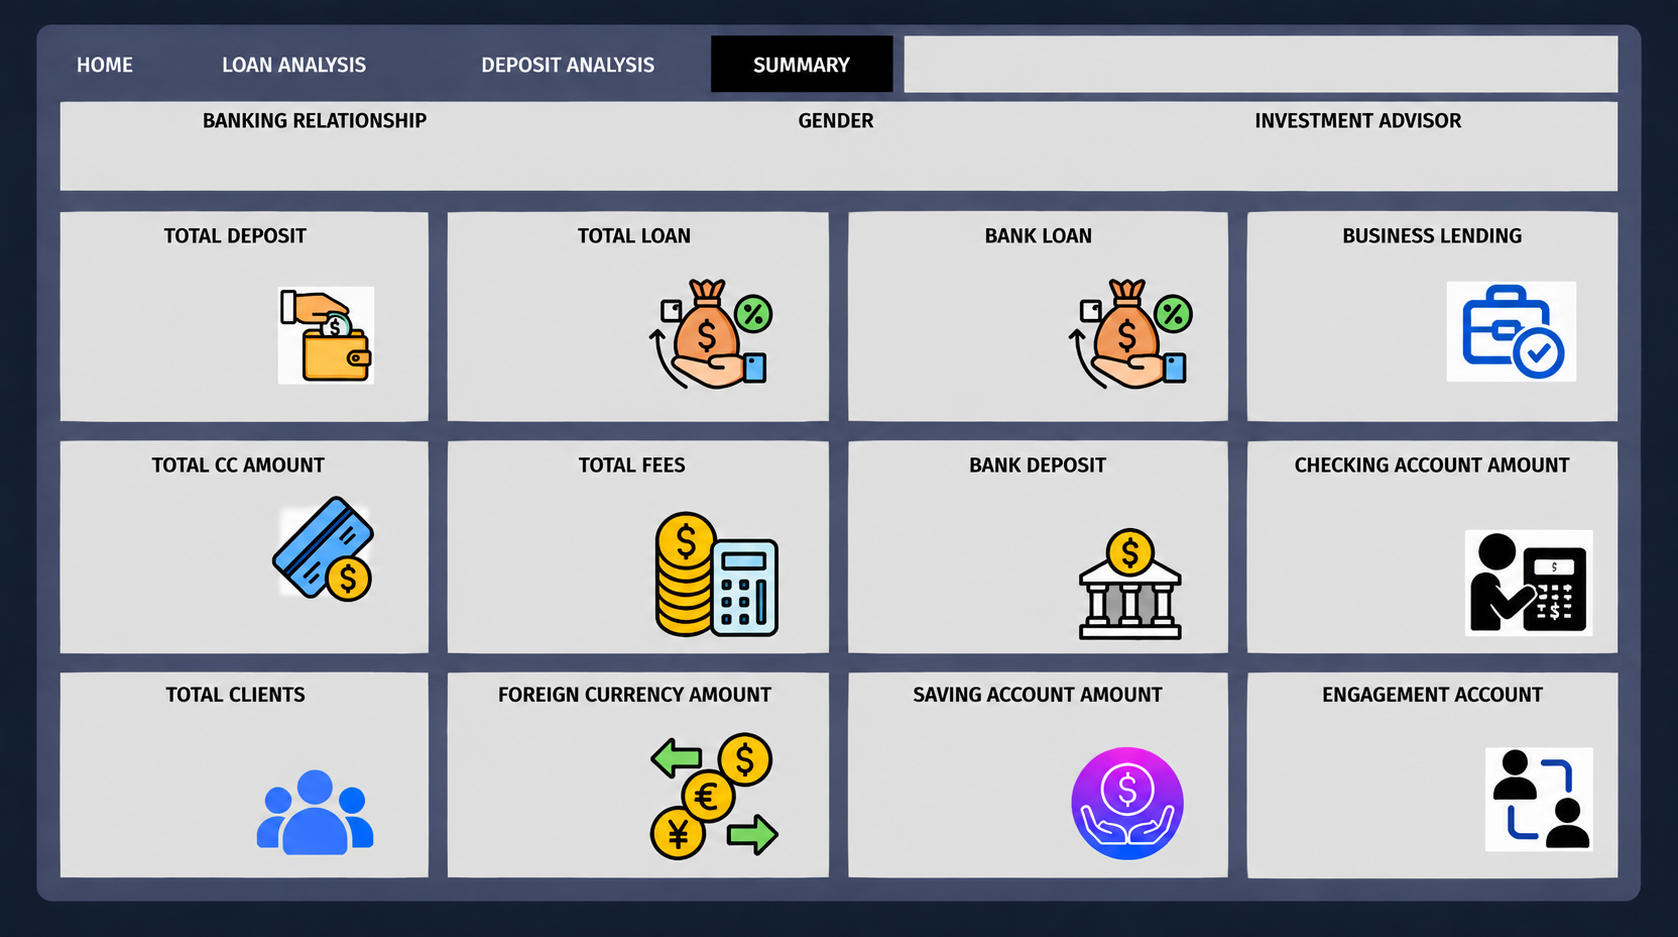

This screenshot's page, from the dashboard's own definition file:
{"tool":"powerbi","page":{"name":"Summary","canvas":[1280,720],"ordinal":3},"visuals":[{"type":"card","fields":{"Values":["DAX Measures.Engagment Length"]},"box":[946.3,546.4,198.2,114.9],"z":0},{"type":"card","fields":{"Values":["DAX Measures.Foreign Currency Account"]},"box":[667.2,546.4,198.2,114.9],"z":1000},{"type":"card","fields":{"Values":["DAX Measures.Bank Deposit"]},"box":[667.2,390.5,198.2,114.9],"z":2000},{"type":"card","fields":{"Values":["DAX Measures.Checking Accounts"]},"box":[953.4,382.3,198.2,114.9],"z":3000},{"type":"card","fields":{"Values":["DAX Measures.Bank Loan"]},"box":[667.2,220.5,198.2,114.9],"z":4000},{"type":"card","fields":{"Values":["DAX Measures.Business Lending"]},"box":[953.4,220.5,184.1,114.9],"z":5000},{"type":"card","fields":{"Values":["DAX Measures.Savings Account"]},"box":[360,546.4,207.6,114.9],"z":6000},{"type":"card","fields":{"Values":["DAX Measures.Total CC Amount"]},"box":[72.7,546.4,198.2,114.9],"z":7000},{"type":"card","fields":{"Values":["DAX Measures.Total Deposit"]},"box":[78.6,390.5,198.2,114.9],"z":8000},{"type":"card","fields":{"Values":["DAX Measures.Total Fees"]},"box":[365.9,390.5,184.1,114.9],"z":9000},{"type":"card","fields":{"Values":["DAX Measures.Total Clients"]},"box":[75,228.7,198.2,114.9],"z":10000},{"type":"card","fields":{"Values":["DAX Measures.Total Loan"]},"box":[365.9,228.7,195.8,114.9],"z":11000},{"type":"slicer","fields":{"Values":["Banking Relationship.Banking Relationship"]},"box":[98.5,104.3,292.9,75.7],"z":12000},{"type":"slicer","fields":{"Values":["Gender.Gender"]},"box":[518.9,104.3,292.9,75.7],"z":13000},{"type":"slicer","fields":{"Values":["Investment Advisor.Investment Advisor"]},"box":[891.3,104.3,292.9,75.7],"z":14000},{"type":"slicer","fields":{"Values":["Period.Name"]},"box":[555.2,34.6,702.1,46.6],"z":15000},{"type":"actionButton","box":[72.8,44.2,58.5,31],"z":16000},{"type":"actionButton","box":[306.9,44.7,119.4,31],"z":17000},{"type":"actionButton","box":[297.9,44.6,147.8,30.5],"z":18000},{"type":"actionButton","box":[157.1,44.6,125.5,30.5],"z":19000}]}

Visuals, with their boxes in screenshot pixels (x1, y1, x2, y2), scaled from the page's 1280x720 canvas onto the 1678x937 screenshot:
card - DAX Measures.Engagment Length: x1=1241 y1=711 x2=1500 y2=861
card - DAX Measures.Foreign Currency Account: x1=875 y1=711 x2=1134 y2=861
card - DAX Measures.Bank Deposit: x1=875 y1=508 x2=1134 y2=658
card - DAX Measures.Checking Accounts: x1=1250 y1=498 x2=1510 y2=647
card - DAX Measures.Bank Loan: x1=875 y1=287 x2=1134 y2=436
card - DAX Measures.Business Lending: x1=1250 y1=287 x2=1491 y2=436
card - DAX Measures.Savings Account: x1=472 y1=711 x2=744 y2=861
card - DAX Measures.Total CC Amount: x1=95 y1=711 x2=355 y2=861
card - DAX Measures.Total Deposit: x1=103 y1=508 x2=363 y2=658
card - DAX Measures.Total Fees: x1=480 y1=508 x2=721 y2=658
card - DAX Measures.Total Clients: x1=98 y1=298 x2=358 y2=447
card - DAX Measures.Total Loan: x1=480 y1=298 x2=736 y2=447
slicer - Banking Relationship.Banking Relationship: x1=129 y1=136 x2=513 y2=234
slicer - Gender.Gender: x1=680 y1=136 x2=1064 y2=234
slicer - Investment Advisor.Investment Advisor: x1=1168 y1=136 x2=1552 y2=234
slicer - Period.Name: x1=728 y1=45 x2=1648 y2=106
actionButton: x1=95 y1=58 x2=172 y2=98
actionButton: x1=402 y1=58 x2=559 y2=99
actionButton: x1=391 y1=58 x2=584 y2=98
actionButton: x1=206 y1=58 x2=370 y2=98
